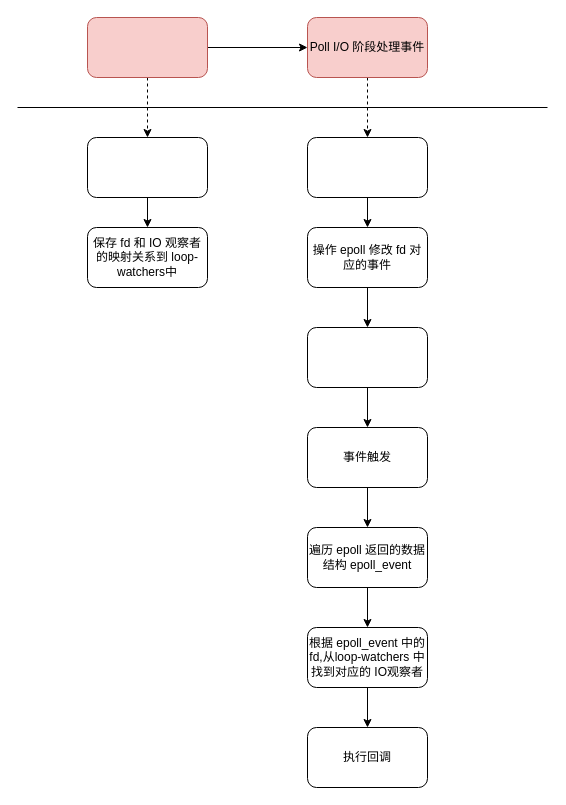
Image size: 566x805. Some labels were removed from this diagram. Here are the shapes that lost their labels. From the top down, the box of each, then its label:
(86, 16, 208, 78): 调用 uv__io_start()注册事件
(86, 136, 208, 198): 往事件循环插入一个 IO 观察者
(306, 136, 428, 198): 遍历 IO 观察者
(306, 326, 428, 388): epoll_wait() 阻塞等待
